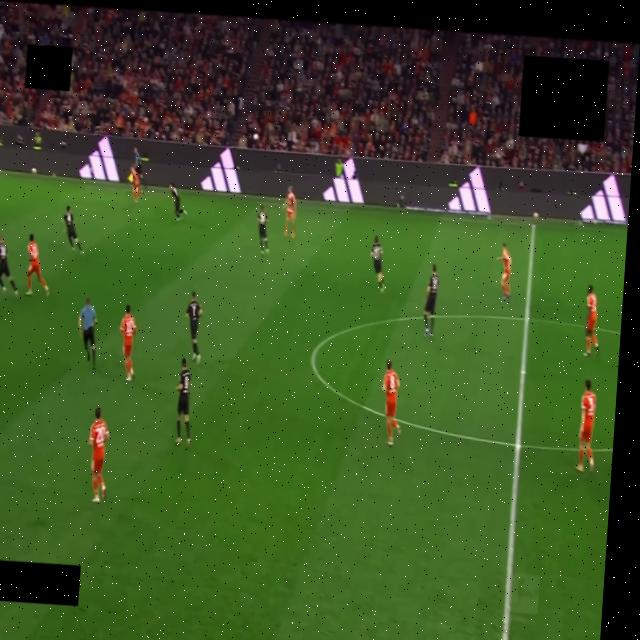player: (172, 357, 196, 447), (89, 408, 109, 503), (576, 380, 595, 472), (382, 360, 400, 445), (26, 235, 49, 296), (120, 306, 137, 381), (186, 292, 202, 364), (424, 265, 439, 337), (0, 236, 18, 296), (584, 285, 599, 356), (64, 205, 83, 254), (255, 205, 272, 255), (371, 235, 385, 292), (497, 244, 511, 299), (169, 183, 187, 220), (283, 187, 296, 238), (130, 166, 143, 202)
referee: (78, 298, 96, 369)
